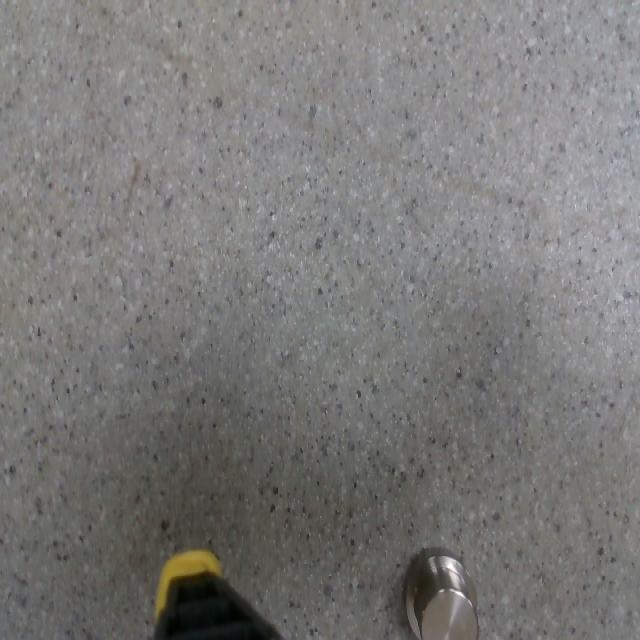sensor: (402, 545, 479, 639)
